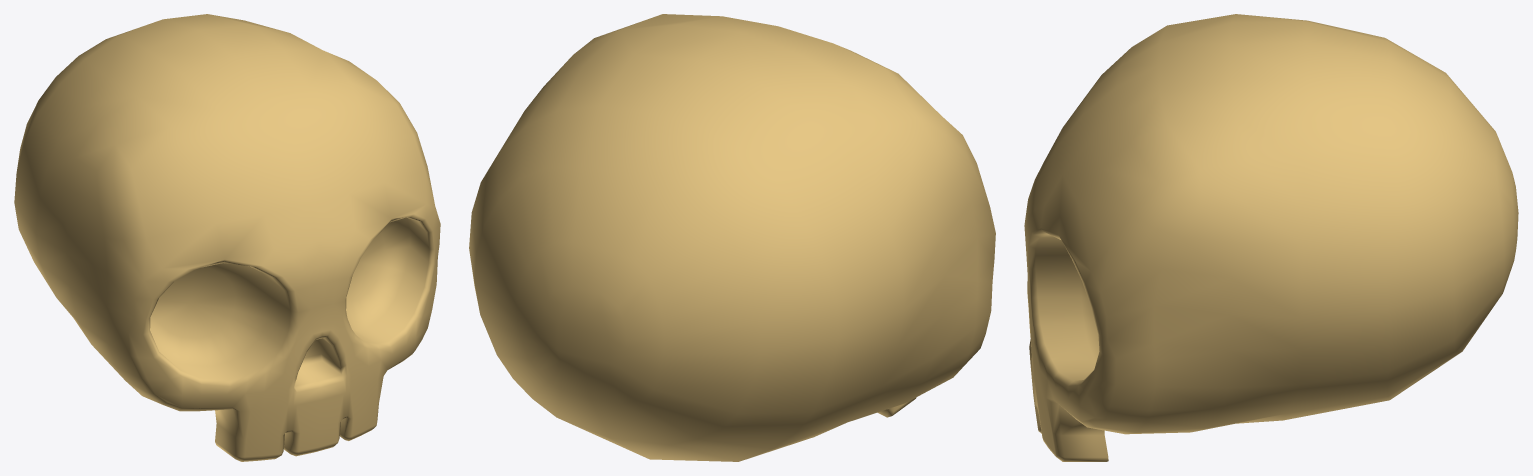
File: PlayerSkull.FBX
3 renders of one model, left to right at view 1: azimuth 30°, elevation 25°; view 2: azimuth 150°, elevation 25°; view 3: azimuth 270°, elevation 25°, orthographic. The views are drawn at different scales.
Parts seen in each view (by area): view 1: skull; view 2: skull; view 3: skull.
Part boxes in pixels (box(x1,y1,x2,y2)): skull: box(14, 14, 440, 461); skull: box(469, 14, 995, 461); skull: box(1024, 14, 1518, 461).
Bounding box in the file's own units: 23.36 × 22.58 × 26.39.
